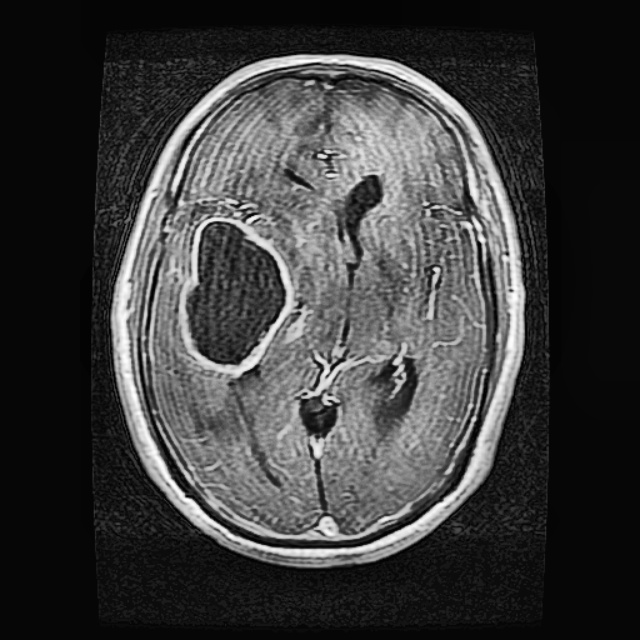Pituitary: (177, 213, 292, 375)
